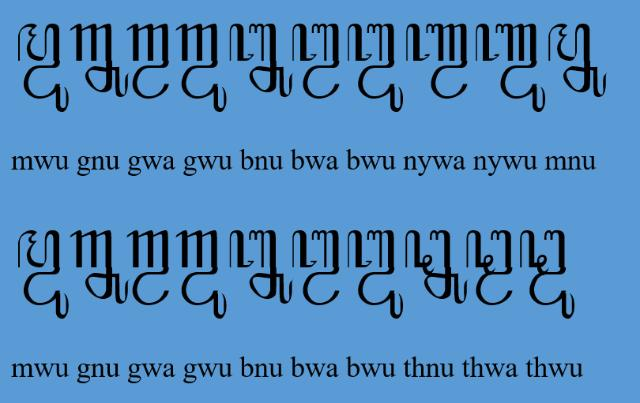bnu: (228, 230, 294, 306), (229, 22, 293, 98)
bw: (292, 230, 342, 306), (292, 24, 340, 100)
bwu: (346, 22, 404, 112), (346, 230, 404, 320)
gnu: (68, 24, 130, 99), (69, 230, 129, 306)
gw: (126, 23, 170, 100), (128, 230, 170, 306)
gwu: (175, 23, 227, 113), (176, 230, 228, 320)
mnu: (548, 22, 608, 98)
mwu: (18, 23, 70, 113), (17, 230, 69, 320)
nyw: (406, 23, 468, 100)
nywu: (475, 23, 545, 113)
thnu: (404, 230, 468, 305)
thw: (466, 230, 514, 307)
thwu: (518, 230, 576, 320)
